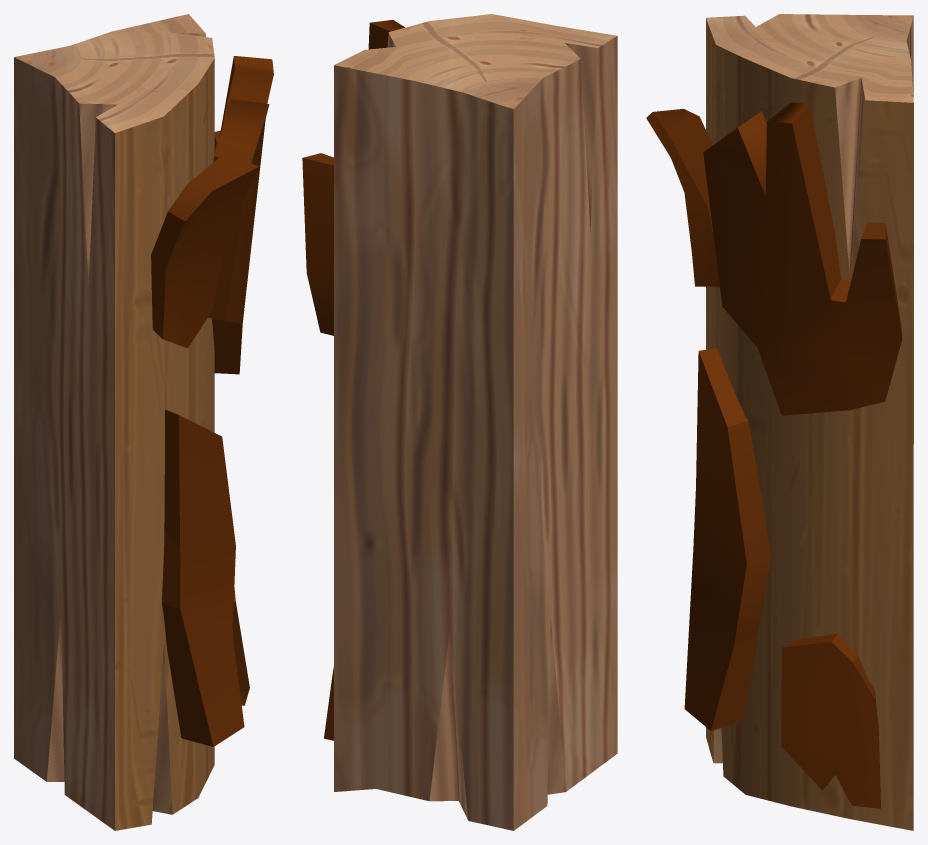
The model's file is obj_harvest_log_l02a.fbx.
3 views of the same model, side by side, from view 1: azimuth 30°, elevation 25°; view 2: azimuth 150°, elevation 25°; view 3: azimuth 270°, elevation 25° (orthographic). The views are drawn at different scales.
Parts seen in each view (by area): view 1: obj_harvest_log_l02a; view 2: obj_harvest_log_l02a; view 3: obj_harvest_log_l02a.
Part boxes in pixels (bbox=[...]): obj_harvest_log_l02a: bbox=[14, 14, 273, 830]; obj_harvest_log_l02a: bbox=[302, 14, 617, 830]; obj_harvest_log_l02a: bbox=[646, 14, 913, 830].
Bounding box in the file's own units: 2.57 × 8 × 2.64.
